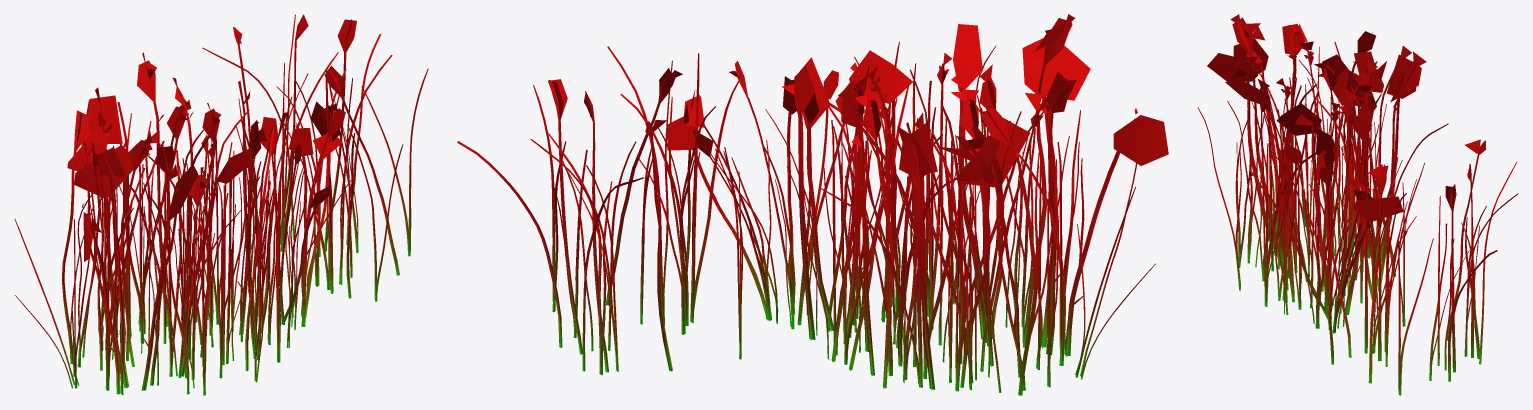
The model's file is Var8_LOD0.fbx.
3 renders of one model, left to right at view 1: azimuth 30°, elevation 25°; view 2: azimuth 150°, elevation 25°; view 3: azimuth 270°, elevation 25°, orthographic. The views are drawn at different scales.
Parts seen in each view (by area): view 1: _a969_Var8_LOD0; view 2: _a969_Var8_LOD0; view 3: _a969_Var8_LOD0.
Part boxes in pixels (x1=…): _a969_Var8_LOD0: x1=14, y1=14, x2=428, y2=395; _a969_Var8_LOD0: x1=457, y1=14, x2=1168, y2=395; _a969_Var8_LOD0: x1=1197, y1=14, x2=1518, y2=395.
Size of the model in its own units: 377 by 204 by 249.
